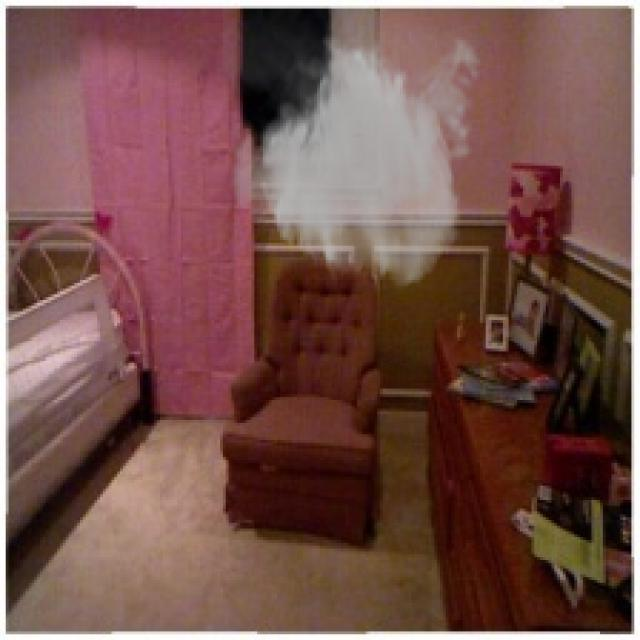smoke: (223, 8, 488, 292)
